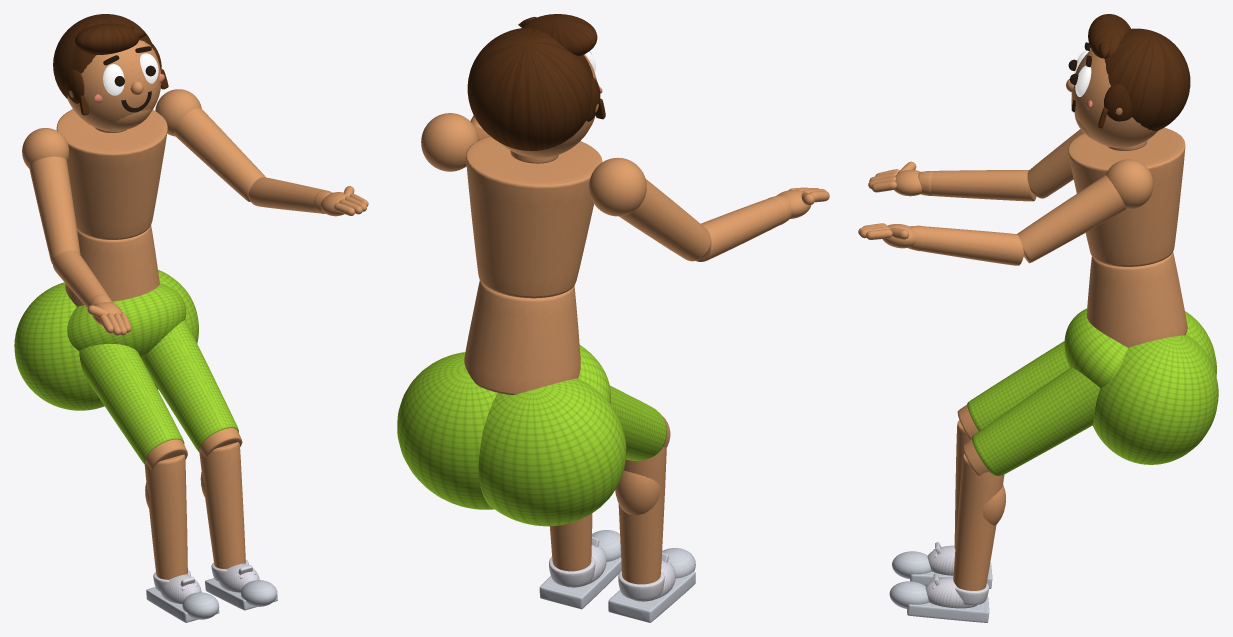
File: character-classic.glb
The picture shows the model from 3 angles, left to right: view 1: azimuth 30°, elevation 25°; view 2: azimuth 150°, elevation 25°; view 3: azimuth 270°, elevation 25°; orthographic projection. The views are drawn at different scales.
Visible parts, largest first — view 1: spine, head, thighR, kneeL, kneeR, cheekR, thighL, pelvis, shoulderL, shoulderR, elbowL, elbowR (+1 smaller); view 2: spine, cheekR, head, cheekL, kneeR, kneeL, elbowR, shoulderR, thighR, pelvis; view 3: spine, cheekL, head, kneeL, thighL, elbowR, elbowL, shoulderL, thighR, pelvis, kneeR, shoulderR (+1 smaller).
Part boxes in pixels (x1,y1,x2,y2): spine: (22, 89, 201, 306); head: (53, 14, 168, 131); thighR: (79, 344, 187, 469); kneeL: (199, 442, 277, 610); kneeR: (144, 454, 219, 622); cheekR: (14, 282, 104, 410); thighL: (142, 320, 242, 457); pelvis: (67, 283, 186, 358); shoulderL: (174, 107, 265, 201); shoulderR: (29, 156, 80, 264); elbowL: (248, 177, 368, 216); elbowR: (53, 250, 131, 335); spine: (421, 113, 646, 395); cheekR: (478, 378, 626, 526); head: (467, 14, 605, 157); cheekL: (397, 352, 497, 509); kneeR: (608, 447, 695, 622); kneeL: (539, 513, 621, 609); elbowR: (696, 187, 829, 261); shoulderR: (619, 179, 711, 261); thighR: (610, 385, 670, 460); pelvis: (578, 345, 610, 403); spine: (1068, 127, 1187, 347); cheekL: (1092, 334, 1218, 464); head: (1066, 14, 1190, 147); kneeL: (889, 453, 1005, 622); thighL: (963, 367, 1100, 475); elbowR: (868, 161, 1036, 201); elbowL: (858, 223, 1024, 265); shoulderL: (1017, 175, 1126, 263); thighR: (957, 341, 1069, 439); pelvis: (1064, 308, 1127, 387); kneeR: (892, 420, 992, 588); shoulderR: (1027, 129, 1083, 198).
Bounding box in the file's own units: 2.02 × 3.93 × 2.28.
10 materials, 8 textured.
